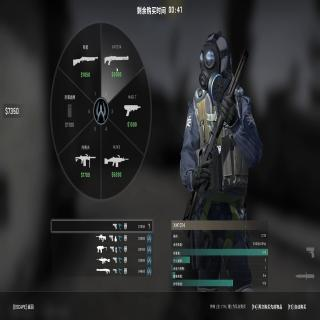CT-Body: (180, 30, 263, 216)
CT-Head: (199, 32, 230, 89)
